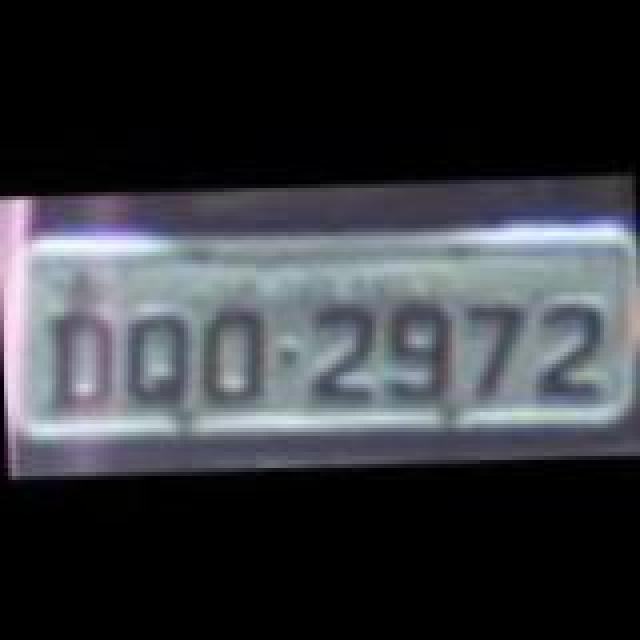2: (526, 292, 610, 400), (298, 300, 378, 412)
7: (462, 290, 530, 398)
9: (382, 290, 450, 398)
D: (44, 310, 120, 410)
O: (196, 296, 268, 404)
Q: (122, 304, 202, 408)
